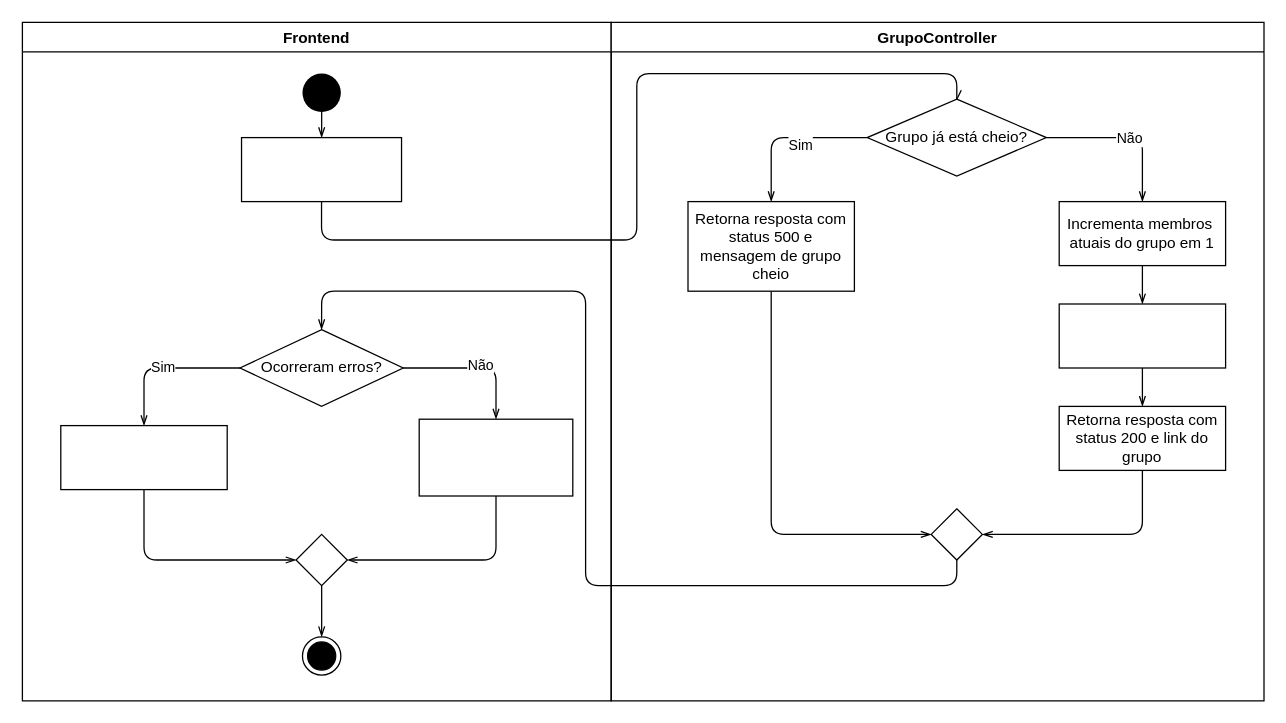
The diagram is 1286 pixels wide and 723 high, and some of its shapes have lost their labels. The shapes that lost their labels are listed below. From the top down, each one's centre as x and y in pixels, then its label:
At point (321, 169): "Usuário clica no botão de Entrar".
At point (1142, 335): "Salva grupo no banco de dados".
At point (143, 457): "Exibe alerta com mensagem de erro".
At point (495, 457): "Redireciona usuário para link do grupo".
